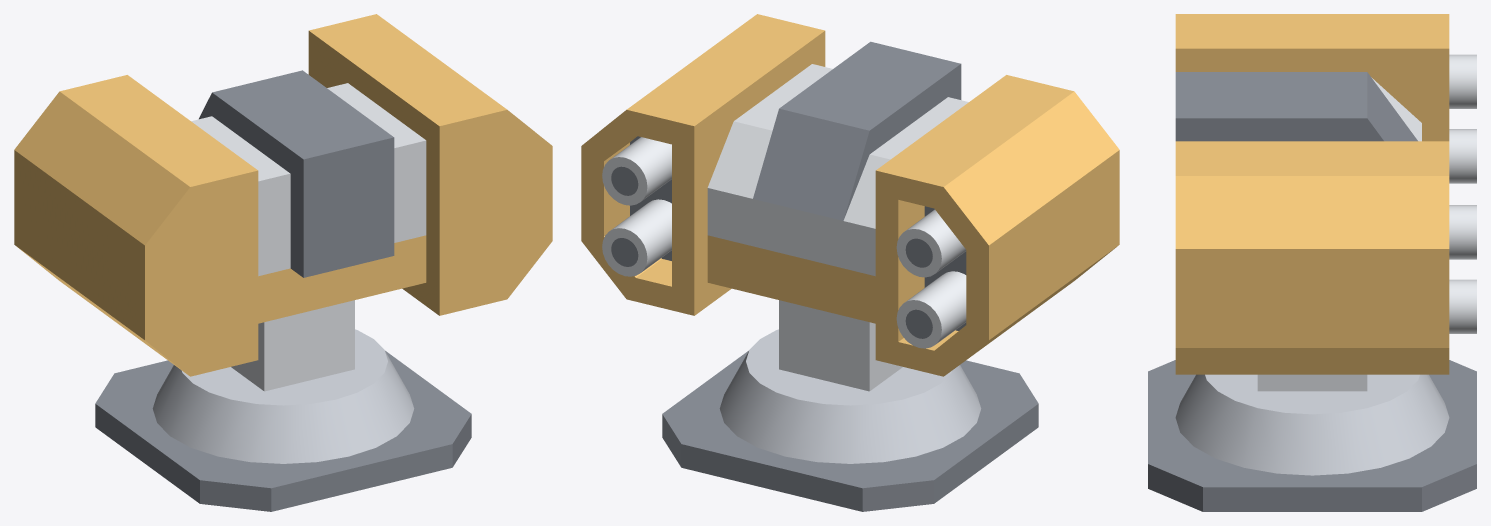
The model's file is turret_double.glb.
3 renders of one model, left to right at view 1: azimuth 30°, elevation 25°; view 2: azimuth 150°, elevation 25°; view 3: azimuth 270°, elevation 25°, orthographic. The views are drawn at different scales.
Parts seen in each view (by area): view 1: turret, turret_double; view 2: turret, turret_double; view 3: turret, turret_double.
Part boxes in pixels (x1,y1,x2,y2): turret: [14, 14, 552, 376]; turret_double: [95, 300, 471, 511]; turret: [581, 14, 1119, 376]; turret_double: [662, 300, 1038, 511]; turret: [1175, 14, 1476, 374]; turret_double: [1148, 360, 1476, 511].
Bounding box in the file's own units: 0.9 × 0.7 × 0.6.
